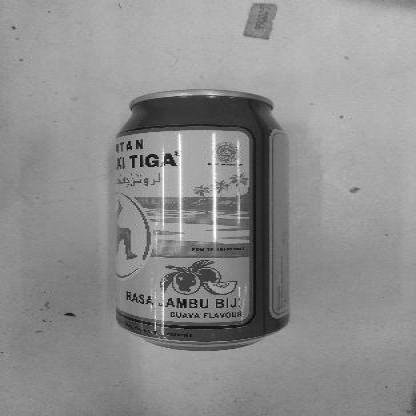alumunium_can: (115, 88, 292, 353)
